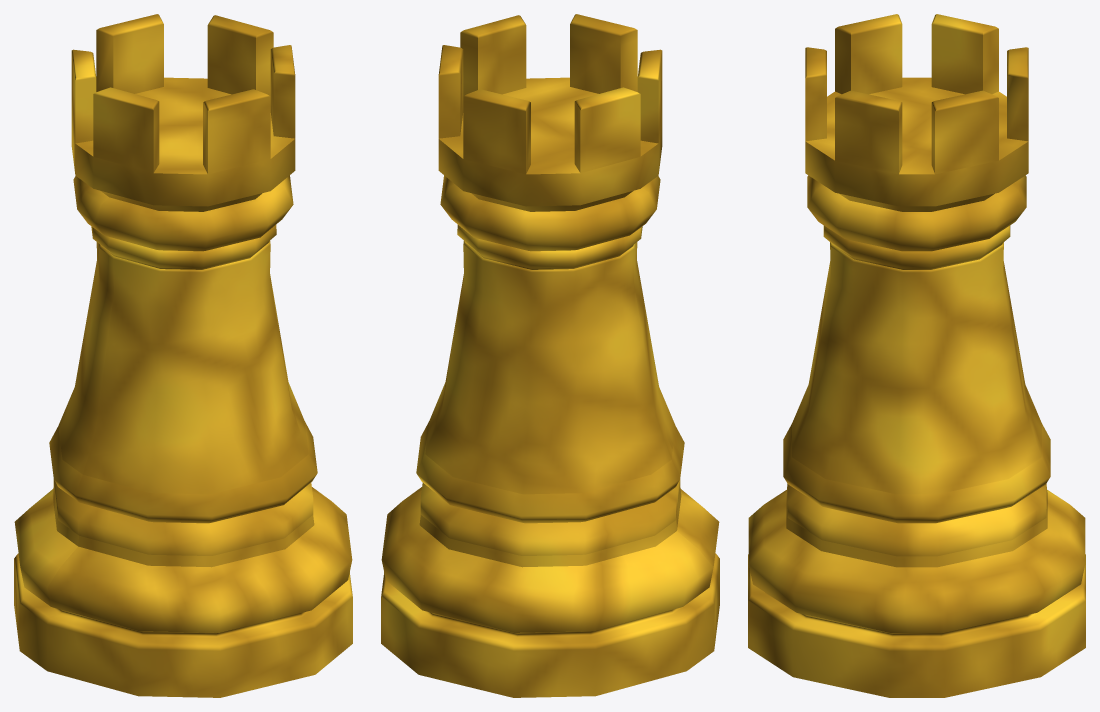
Rendered from item-3-1.glb.
The picture shows the model from 3 angles, left to right: view 1: azimuth 30°, elevation 25°; view 2: azimuth 150°, elevation 25°; view 3: azimuth 270°, elevation 25°; orthographic projection.
Parts seen in each view (by area): view 1: BlackTower; view 2: BlackTower; view 3: BlackTower.
Part boxes in pixels (x1=…): BlackTower: x1=14, y1=14, x2=352, y2=697; BlackTower: x1=381, y1=14, x2=719, y2=697; BlackTower: x1=748, y1=14, x2=1085, y2=697.
Bounding box in the file's own units: 0.092 × 0.1651 × 0.0897.
1 material, 1 textured.
